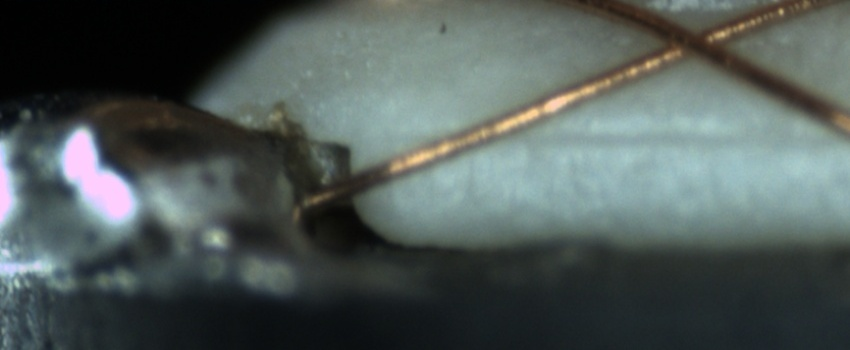CL: (629, 6, 753, 70)
DL: (401, 105, 850, 168)
